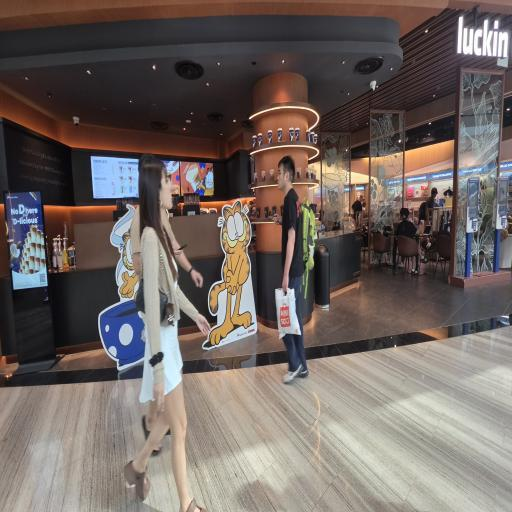person_left: (272, 147, 317, 377)
person_right: (135, 166, 191, 512)
